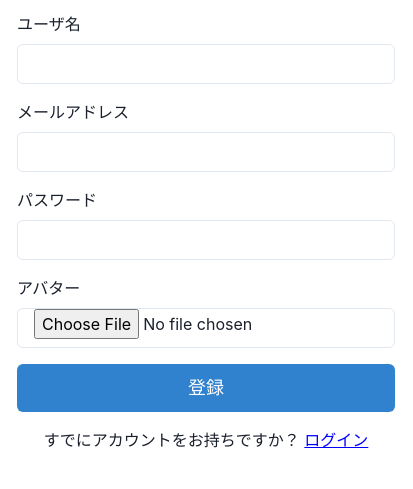
Test: SignupForm › パスワードの長さが不足している場合にエラーが表示される
The image size is (413, 489).
# 短いパスワードを入力
In the field labelled "ユーザ名": x=206, y=64 [17,44,395,84], type "テストユーザー"
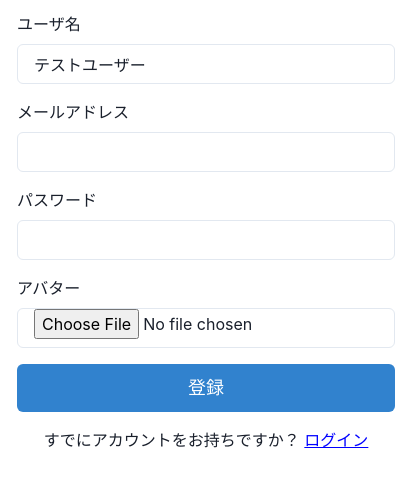
In the field labelled "メールアドレス": x=206, y=152 [17,132,395,172], type "test@example.com"
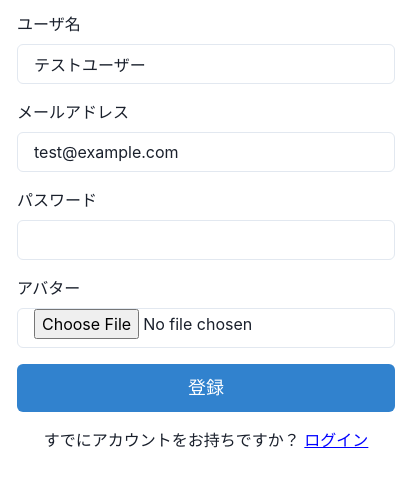
In the password field labelled "パスワード": x=206, y=240 [17,220,395,260], type "12345"
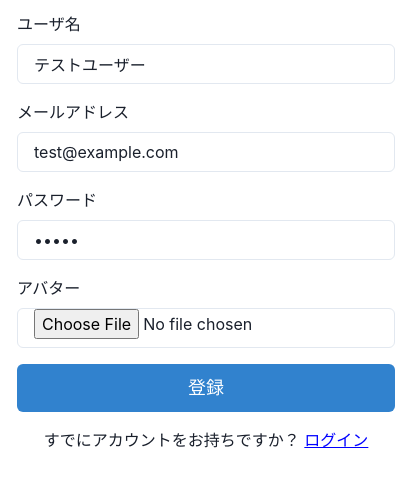
# 登録ボタンをクリック
Click the button "登録": x=206, y=388 [17,364,395,412]
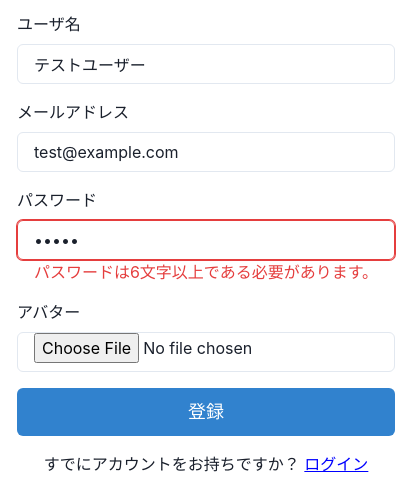
Expected: the text "パスワードは6文字以上である必要があります。" is shown, [17,260,395,284]
